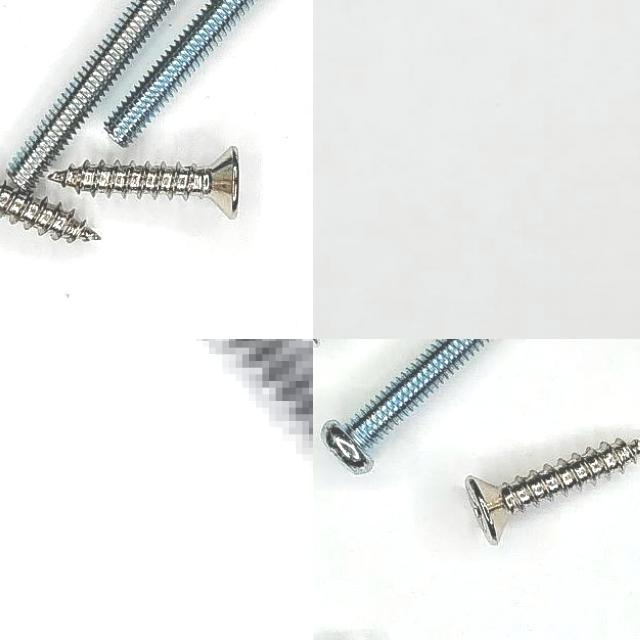Screw: (7, 0, 176, 191), (321, 339, 489, 474), (105, 0, 256, 146), (465, 438, 640, 544), (47, 147, 239, 219), (0, 182, 100, 243)
